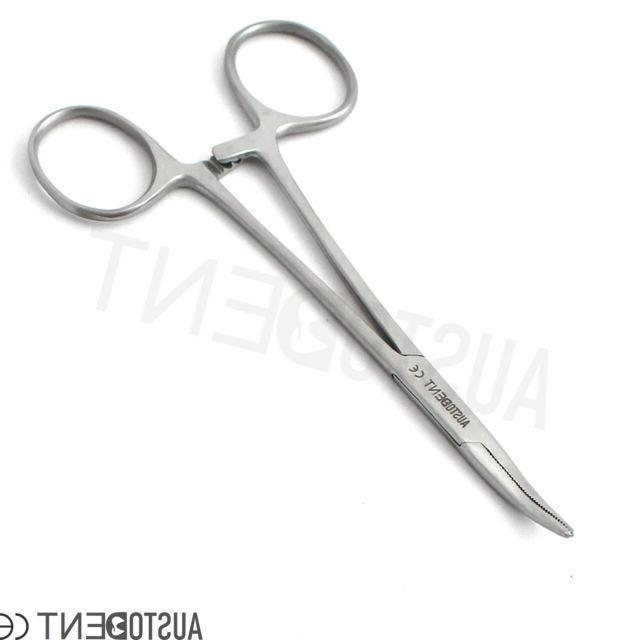Hemostat: (20, 15, 577, 546)
